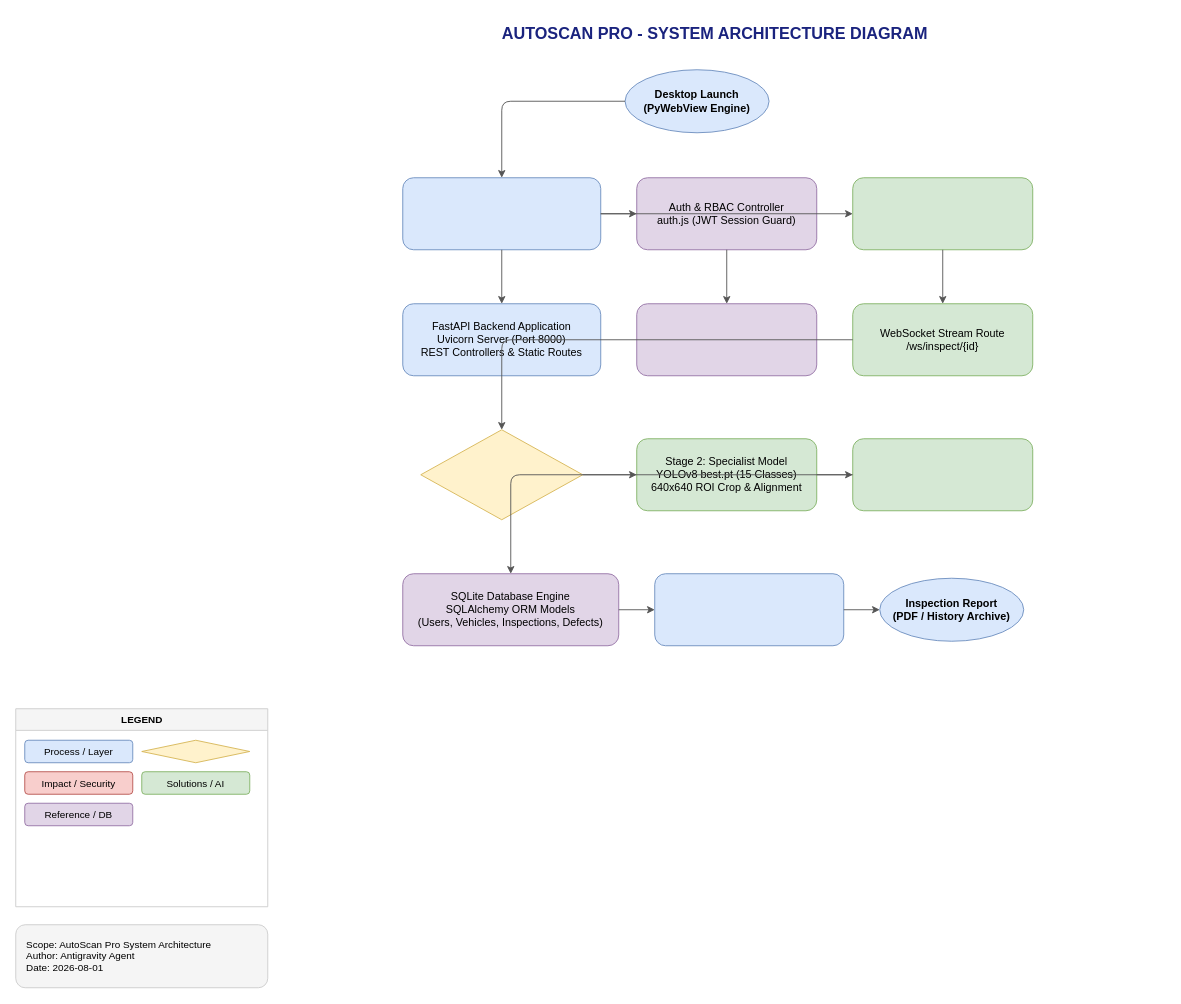
Some shapes in this 1181 by 1004 pixel diagram are drawn without their labels. Each missing label, with the centre of its shape:
Auth Security Endpoint /api/auth (Role & Token Verification): point (726, 339)
Decisions / Gates: point (195, 751)
Frontend UI Module HTML5 / CSS3 / Vanilla JS SPA (app.js Router & Layout): point (501, 213)
Live Stream Client detection.js (WebSocket Stream): point (942, 213)
Stage 1: Vehicle Gate YOLOv8n Vehicle Pre-filter: point (501, 474)
Stage 3: OpenCV Post-Process Shape Contour Analysis & 5-Frame Stability Filter: point (942, 474)
WeasyPrint / xhtml2pdf Engine HTML to PDF Compiler & Defect Snapshot Storage: point (749, 609)
